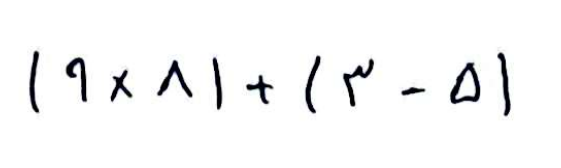character: (343, 58, 375, 107), (448, 62, 481, 104), (156, 61, 192, 98), (65, 56, 88, 101), (306, 55, 321, 123), (28, 50, 43, 115), (497, 52, 511, 116), (246, 75, 273, 105), (110, 71, 133, 102), (211, 56, 224, 109), (401, 85, 427, 97)
